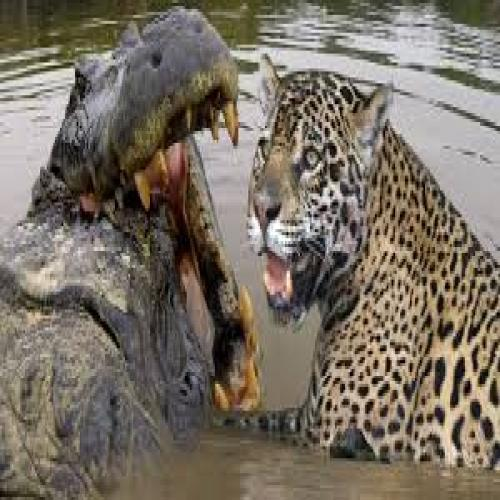jaguar_not-endangered: (255, 68, 500, 465)
